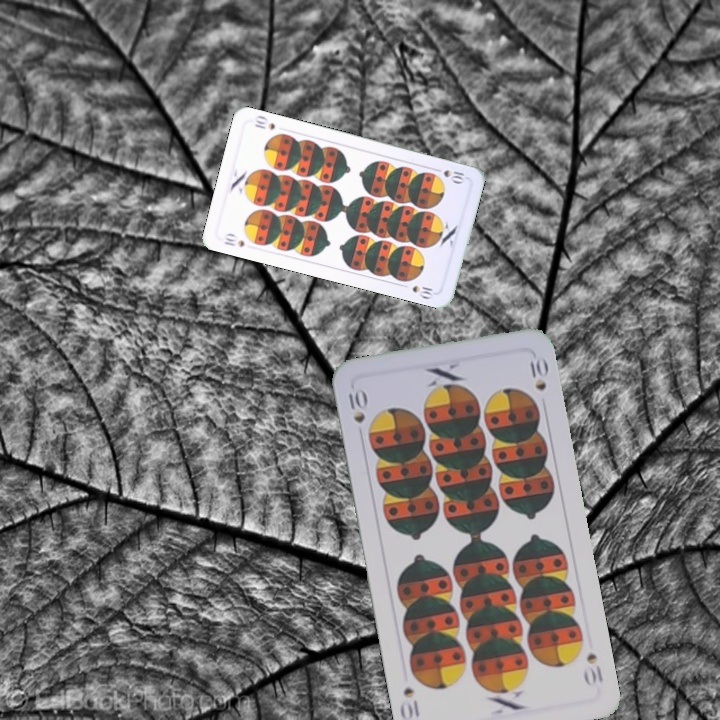S10: (580, 649, 606, 689), (344, 387, 369, 426), (429, 164, 469, 185), (220, 229, 247, 250)
